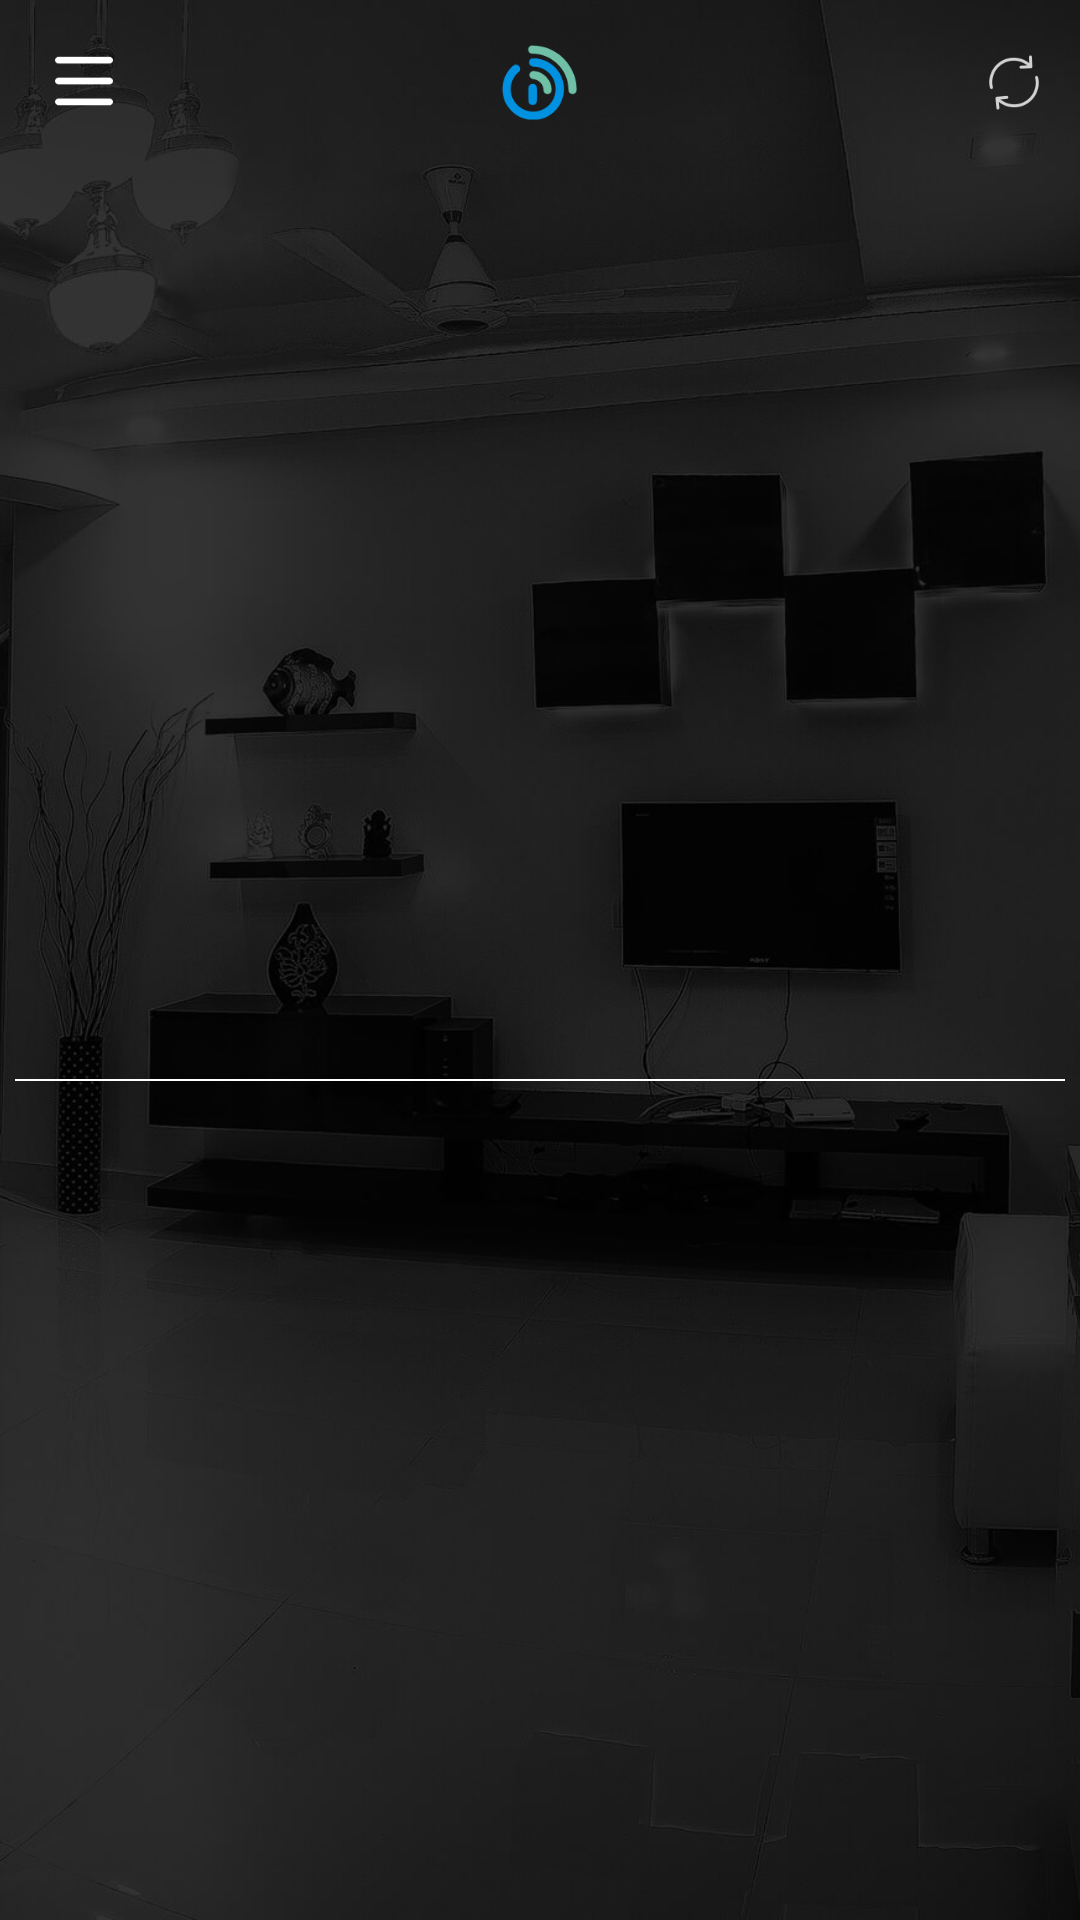

Where icons sit on this 1080x1920 app screen, as (x1, y1, x2, y2):
refresh: (989, 55, 1039, 110)
